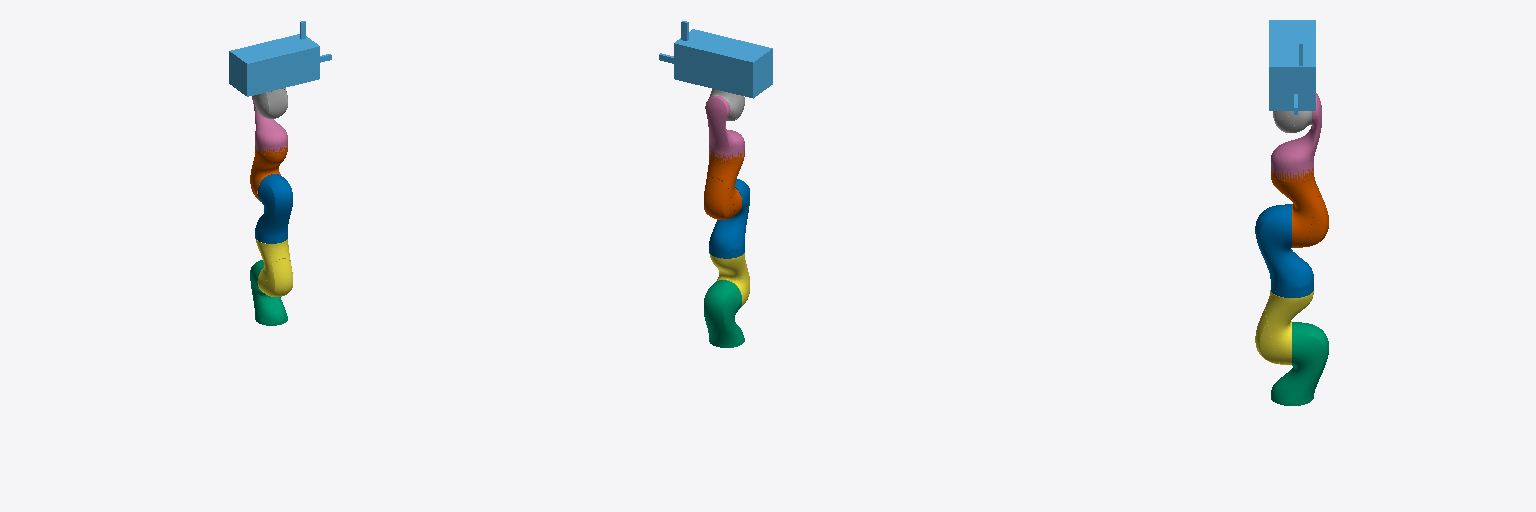
URDF robot description (lbr5_7):
<?xml version="1.0"?>
<robot xmlns:sensor="http://playerstage.sourceforge.net/gazebo/xmlschema/#sensor"
       xmlns:controller="http://playerstage.sourceforge.net/gazebo/xmlschema/#controller"
       xmlns:interface="http://playerstage.sourceforge.net/gazebo/xmlschema/#interface"
       xmlns:xacro="http://playerstage.sourceforge.net/gazebo/xmlschema/#interface"
       name="lbr5_7">

 <link name="kuka_root">
    <visual>
      <origin rpy="0 0 0" xyz="0 0 0"/>
      <geometry>
        <box size="0.001 0.001 0.001"/>
      </geometry>
      <material name="Blue"/>
    </visual>
 </link>

 <link name="segment_0">
    <visual>
      <geometry>
        <mesh filename="package://kuka_description/cad/segment_0_s.dae"/>
      </geometry>
    </visual>
    <collision>
      <geometry>
        <mesh filename="package://kuka_description/cad/segment_0_c.dae"/>
      </geometry>
    </collision>
  </link>

 <link name="segment_1">
    <visual>
      <geometry>
        <mesh filename="package://kuka_description/cad/segment_1_s.dae"/>
      </geometry>
    </visual>
    <collision>
      <geometry>
        <mesh filename="package://kuka_description/cad/segment_1_c.dae"/>
      </geometry>
    </collision>
  </link>

 <link name="segment_2">
    <visual>
      <geometry>
        <mesh filename="package://kuka_description/cad/segment_2_s.dae"/>
      </geometry>
    </visual>
    <collision>
      <geometry>
        <mesh filename="package://kuka_description/cad/segment_2_c.dae"/>
      </geometry>
    </collision>
  </link>

 <link name="segment_3">
    <visual>
      <geometry>
        <mesh filename="package://kuka_description/cad/segment_3_s.dae"/>
      </geometry>
    </visual>
    <collision>
      <geometry>
        <mesh filename="package://kuka_description/cad/segment_3_c.dae"/>
      </geometry>
    </collision>
  </link>

 <link name="segment_4">
    <visual>
      <geometry>
        <mesh filename="package://kuka_description/cad/segment_4_s.dae"/>
      </geometry>
    </visual>
    <collision>
      <geometry>
        <mesh filename="package://kuka_description/cad/segment_4_c.dae"/>
      </geometry>
    </collision>
  </link>

 <link name="segment_5">
    <visual>
      <geometry>
        <mesh filename="package://kuka_description/cad/segment_5_s.dae"/>
      </geometry>
    </visual>
    <collision>
      <geometry>
        <mesh filename="package://kuka_description/cad/segment_5_c.dae"/>
      </geometry>
    </collision>
  </link>

  <link name="segment_6">
    <visual>
      <geometry>
        <mesh filename="package://kuka_description/cad/segment_6_s.dae"/>
      </geometry>
    </visual>
    <collision>
      <geometry>
        <mesh filename="package://kuka_description/cad/segment_6_c.dae"/>
      </geometry>
    </collision>
  </link>

  <link name="segment_7">
    <visual>
      <geometry>
        <mesh filename="package://kuka_description/cad/segment_7_s.dae"/>
      </geometry>
    </visual>
    <collision>
      <geometry>
        <mesh filename="package://kuka_description/cad/segment_7_c.dae"/>
      </geometry>
    </collision>
  </link>

  <link name="tool">
    <visual>
      <geometry>
        <mesh filename="package://kuka_description/cad/tool_s.dae"/>
      </geometry>
    </visual>
    <collision>
      <geometry>
        <mesh filename="package://kuka_description/cad/tool_s.dae"/>
      </geometry>
    </collision>
  </link>

 <link name="end_effector_link">
  </link>

 <link name="tcp_1_link">
 </link>

 <link name="tcp_2_link">
 </link>

 <link name="goal_1_link">
 </link>
 <link name="goal_2_link">
 </link>
 <link name="goal_3_link">
 </link>
 <link name="goal_4_link">
 </link>
 <link name="goal_5_link">
 </link>
 <link name="goal_6_link">
 </link>


  <joint name="joint_root" type="fixed">
    <parent link="kuka_root"/>
    <child link="segment_0"/>
    <axis xyz="0 0 1"/>
    <origin rpy="0 0 3.14159" xyz="5.4 1.9 4.16"/>
  </joint>

  <joint name="joint_0" type="continuous">
    <parent link="segment_0"/>
    <child link="segment_1"/>
    <axis xyz="0 0 1"/>
    <origin xyz="0 0 1.57"/>
  </joint>

  <joint name="joint_1" type="continuous">
    <parent link="segment_1"/>
    <child link="segment_2"/>
    <axis xyz="0 1 0"/>
    <origin xyz="0 0 1.85"/>
  </joint>

  <joint name="joint_2" type="continuous">
    <parent link="segment_2"/>
    <child link="segment_3"/>
    <axis xyz="0 0 1"/>
    <origin xyz="0 0 1.85"/>
  </joint>

  <joint name="joint_3" type="continuous">
    <parent link="segment_3"/>
    <child link="segment_4"/>
    <axis xyz="0 1 0"/>
    <origin xyz="0 0 2.15"/>
  </joint>

  <joint name="joint_4" type="continuous">
    <parent link="segment_4"/>
    <child link="segment_5"/>
    <axis xyz="0 0 1"/>
    <origin xyz="0 0 1.85"/>
  </joint>

  <joint name="joint_5" type="continuous">
    <parent link="segment_5"/>
    <child link="segment_6"/>
    <axis xyz="0 1 0"/>
    <origin xyz="0 0 2.15"/>
  </joint>

  <joint name="joint_6" type="continuous">
    <parent link="segment_6"/>
    <child link="segment_7"/>
    <axis xyz="0 0 1"/>
    <origin xyz="0 0 0.80"/>
  </joint>

  <joint name="joint_tool" type="fixed">
    <parent link="segment_7"/>
    <child link="tool"/>
    <axis xyz="0 0 1"/>
    <origin xyz="0 0 0"/>
  </joint>

  <joint name="joint_ee" type="fixed">
    <parent link="tool"/>
    <child link="end_effector_link"/>
    <axis xyz="0 0 1"/>
    <origin xyz="0 0 0"/>
  </joint>

  <joint name="joint_tcp_1" type="fixed">
    <parent link="tool"/>
    <child link="tcp_1_link"/>
    <axis xyz="0 0 1"/>
    <origin xyz="-1.64 -0.28 2.32"/>
  </joint>

  <joint name="joint_tcp_2" type="fixed">
    <parent link="tool"/>
    <child link="tcp_2_link"/>
    <axis xyz="0 0 1"/>
    <origin rpy="0 -1.570796 0" xyz="-2.94 -0.11 0.44"/>
  </joint>

  <joint name="joint_goal_1" type="fixed">
    <parent link="kuka_root"/>
    <child link="goal_1_link"/>
    <axis xyz="0 0 1"/>
    <origin rpy="-1.570796 0 1.570796" xyz="2.0 0.5 12.0"/>
  </joint>

  <joint name="joint_goal_2" type="fixed">
    <parent link="kuka_root"/>
    <child link="goal_2_link"/>
    <axis xyz="0 0 1"/>
    <origin rpy="-1.570796 0 1.570796" xyz="2.0 1.0 12.0"/>
  </joint>

  <joint name="joint_goal_3" type="fixed">
    <parent link="kuka_root"/>
    <child link="goal_3_link"/>
    <axis xyz="0 0 1"/>
    <origin rpy="-1.570796 0 1.570796" xyz="2.0 1.5 12.0"/>
  </joint>

  <joint name="joint_goal_4" type="fixed">
    <parent link="kuka_root"/>
    <child link="goal_4_link"/>
    <axis xyz="0 0 1"/>
    <origin rpy="-1.570796 0 3.141592" xyz="2.0 2.0 8.5"/>
  </joint>

  <joint name="joint_goal_5" type="fixed">
    <parent link="kuka_root"/>
    <child link="goal_5_link"/>
    <axis xyz="0 0 1"/>
    <origin rpy="-1.570796 0 3.141592" xyz="1.5 2.0 8.5"/>
  </joint>

  <joint name="joint_goal_6" type="fixed">
    <parent link="kuka_root"/>
    <child link="goal_6_link"/>
    <axis xyz="0 0 1"/>
    <origin rpy="-1.570796 0 3.141592" xyz="1.0 2.0 8.5"/>
  </joint>



</robot>

--- Facts derived from the render (not from the file) ---
Views: 3 orthographic renders of the robot side by side, from view 1: azimuth 30°, elevation 25°; view 2: azimuth 150°, elevation 25°; view 3: azimuth 270°, elevation 25°.
Model lbr5_7 with 19 links and 18 joints (7 continuous, 11 fixed), rooted at kuka_root, posed every joint at zero.
Links seen in each view (by area): view 1: tool, segment_3, segment_2, segment_1, segment_5, segment_4, segment_6; view 2: tool, segment_1, segment_4, segment_3, segment_5, segment_2; view 3: tool, segment_3, segment_1, segment_4, segment_2, segment_5, segment_6.
Boxes of the visible links, x1,y1,x2,y2 form: tool: (229, 21, 331, 96); segment_3: (255, 174, 292, 243); segment_2: (255, 238, 292, 296); segment_1: (250, 260, 287, 325); segment_5: (252, 96, 287, 153); segment_4: (250, 145, 287, 201); segment_6: (254, 88, 287, 118); tool: (659, 21, 772, 98); segment_1: (704, 280, 744, 347); segment_4: (704, 150, 744, 219); segment_3: (709, 179, 749, 258); segment_5: (705, 96, 744, 160); segment_2: (709, 253, 749, 306); tool: (1269, 20, 1315, 114); segment_3: (1255, 204, 1313, 297); segment_1: (1271, 322, 1328, 405); segment_4: (1271, 167, 1328, 247); segment_2: (1255, 290, 1313, 364); segment_5: (1271, 93, 1321, 179); segment_6: (1273, 111, 1311, 132).
Size in the robot's own frame: 8.25 by 3.04 by 18.63 metres.
Meshes: 9 distinct files referenced, 8 mesh visuals loaded (8 Collada DAE); not drawn: 1 (reference not matched to a file when rendering).